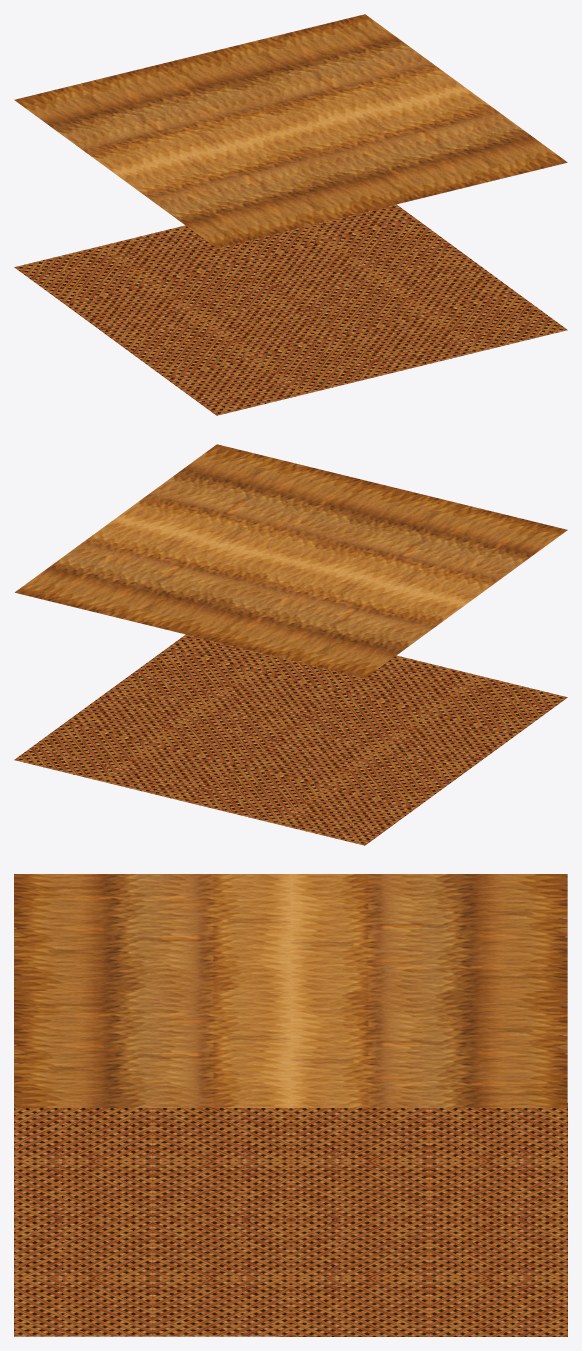
The model's file is Kit_RoofTop_2x2.FBX.
3 renders of one model, top to bottom at view 1: azimuth 30°, elevation 25°; view 2: azimuth 150°, elevation 25°; view 3: azimuth 270°, elevation 25°, orthographic. The views are drawn at different scales.
Visible parts, largest first — view 1: Kit_RoofTop_2x2; view 2: Kit_RoofTop_2x2; view 3: Kit_RoofTop_2x2.
Part boxes in pixels (bbox=[...]): Kit_RoofTop_2x2: bbox=[14, 14, 567, 415]; Kit_RoofTop_2x2: bbox=[14, 444, 567, 845]; Kit_RoofTop_2x2: bbox=[14, 874, 567, 1336].
Bounding box in the file's own units: 4.65 × 4.65 × 2.12.
